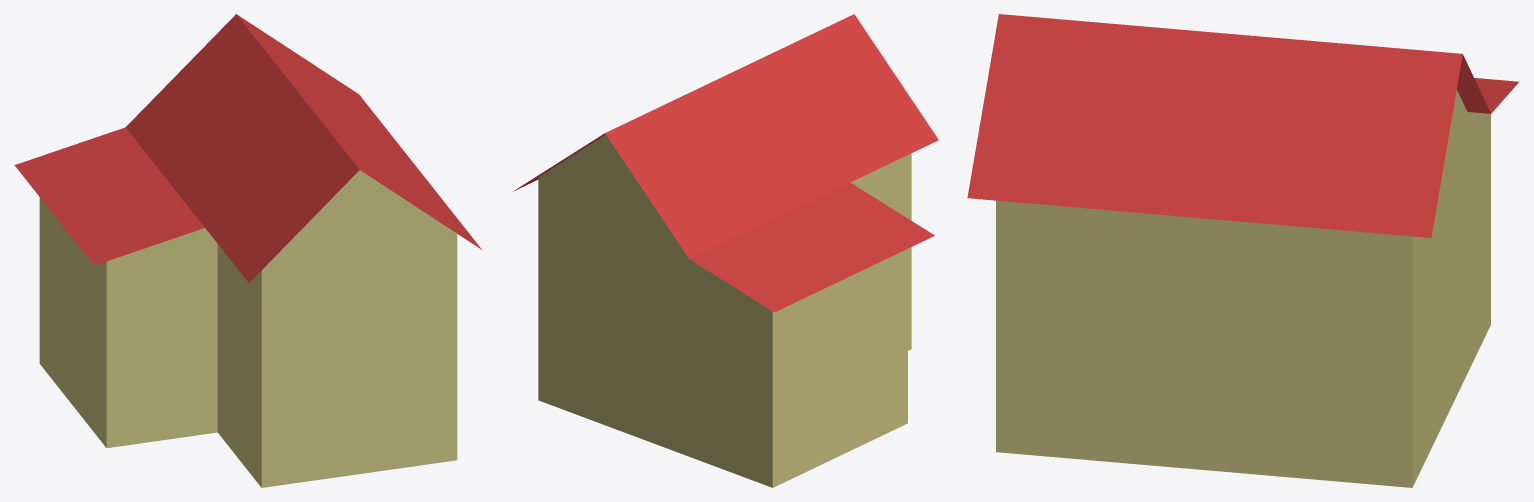
The picture shows the model from 3 angles, left to right: view 1: azimuth 30°, elevation 25°; view 2: azimuth 150°, elevation 25°; view 3: azimuth 270°, elevation 25°; orthographic projection. The views are drawn at different scales.
Bounding box in the file's own units: 10.19 × 11.38 × 8.67.
